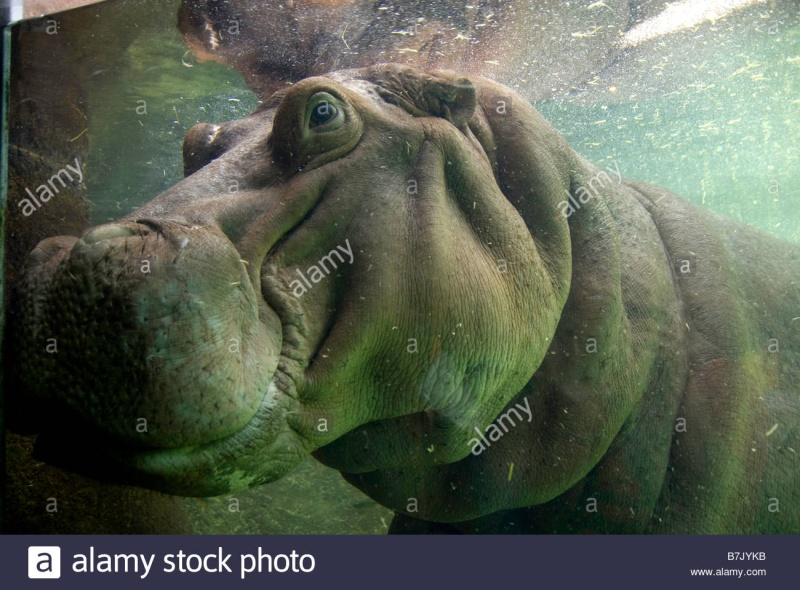hipopotamo: (14, 63, 795, 531)
